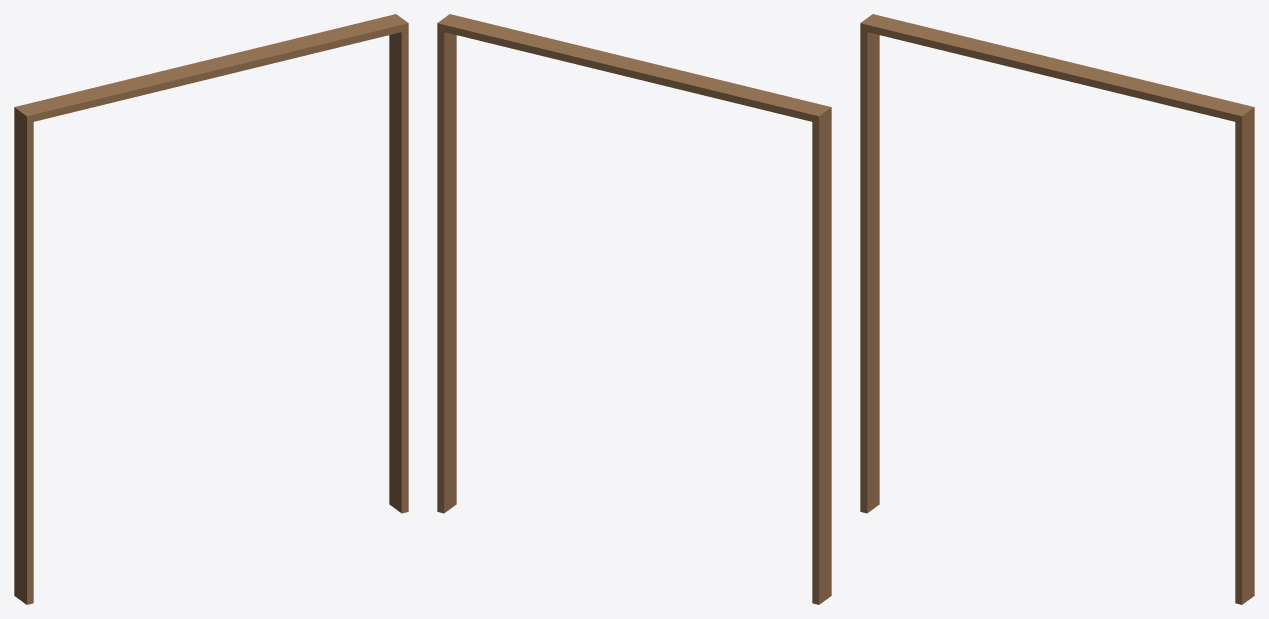
3 renders of one model, left to right at view 1: azimuth 30°, elevation 25°; view 2: azimuth 150°, elevation 25°; view 3: azimuth 330°, elevation 25°, orthographic.
Visible parts, largest first — view 1: Arrival Painting Portal; view 2: Arrival Painting Portal; view 3: Arrival Painting Portal.
Part boxes in pixels (x1,y1,x2,y2): Arrival Painting Portal: [14, 14, 408, 604]; Arrival Painting Portal: [437, 14, 831, 604]; Arrival Painting Portal: [860, 14, 1254, 604].
Size of the model in its own units: 2.49 by 3.05 by 0.142.
